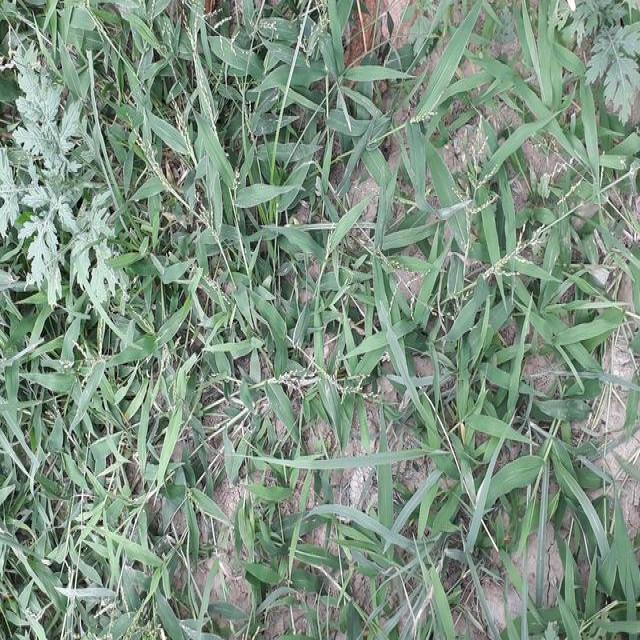weed: (7, 5, 636, 640)
